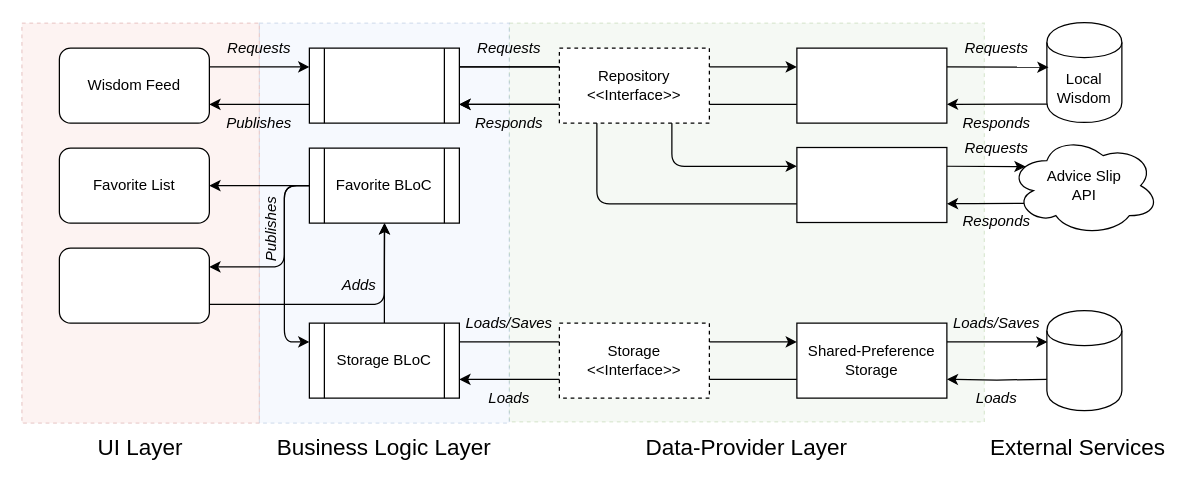
Some shapes in this 1194 by 483 pixel diagram are drawn without their labels. The centre of each missing label's shape, as x and y in pixels:
API Repository: (871,184)
Favorite Button: (133,285)
Local Repository: (871,85)
Offline Storage: (1084,360)
Wisdom BLoC: (383,85)
